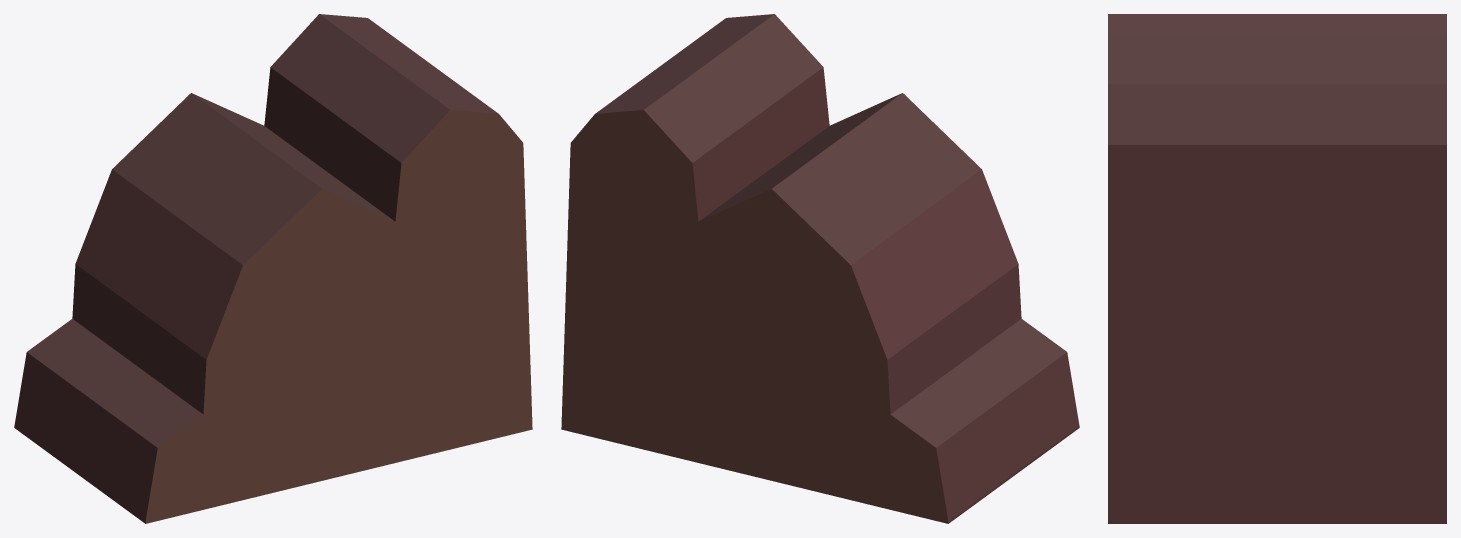
Rendered from bg_field_barn_1_lod2.glb.
3 views of the same model, side by side, from view 1: azimuth 30°, elevation 25°; view 2: azimuth 150°, elevation 25°; view 3: azimuth 270°, elevation 25° (orthographic). The views are drawn at different scales.
Visible parts, largest first — view 1: body; view 2: body; view 3: body.
Part boxes in pixels (<box>): body: <box>14,14,532,523</box>; body: <box>561,14,1079,523</box>; body: <box>1108,14,1446,523</box>.
Size of the model in its own units: 8.94 by 7.5 by 5.25.
